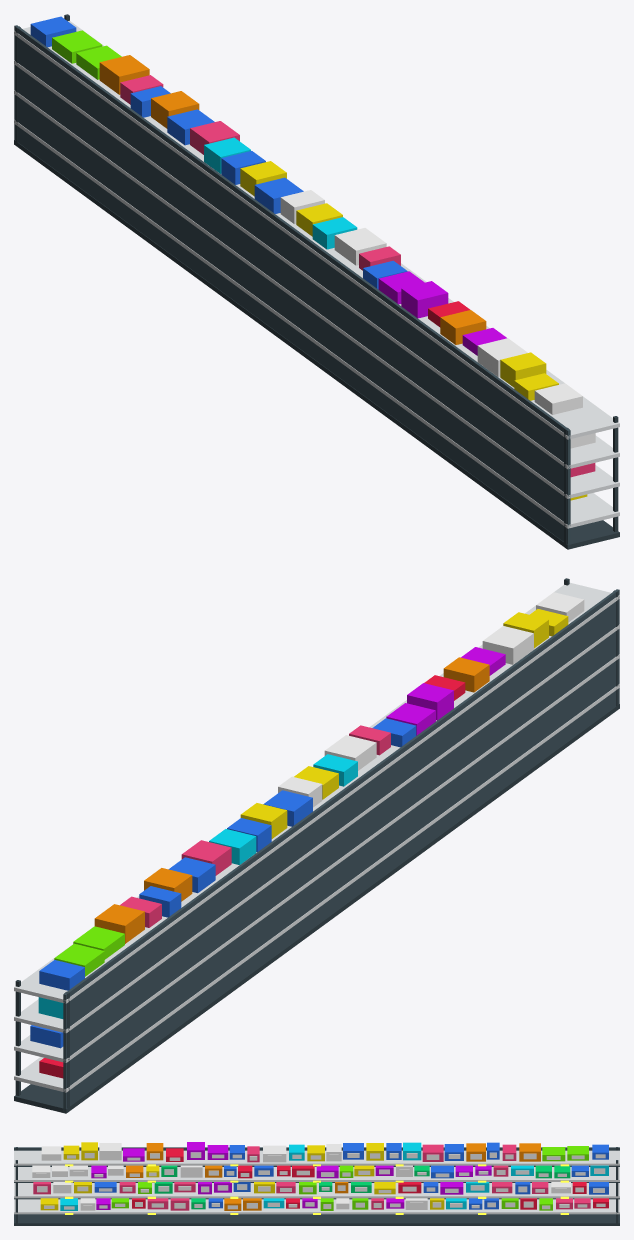
File: shelf.glb
3 renders of one model, top to bottom at view 1: azimuth 30°, elevation 25°; view 2: azimuth 150°, elevation 25°; view 3: azimuth 270°, elevation 25°, orthographic. The views are drawn at different scales.
Visible parts, largest first — view 1: BackPanel, Board.003, Base, Board, Board.001, Board.002, Product.109, Product.092, Product.105, Product.116, Product.111, Product.114 (+15 smaller); view 2: BackPanel, Board.003, Base, Board, Board.002, Board.001, Product.113, Product.092, Product.111, Product.109, Product.105, Product.089 (+17 smaller); view 3: Base, Board, Board.001, Board.003, Board.002, BackPanel, Product.105, Product.113, Product.092, Product.097, Product.095, Product.091 (+103 smaller).
Boxes of the visible parts, x1,y1,x2,y2 form: BackPanel: (14, 25, 570, 549); Board.003: (14, 20, 619, 439); Base: (14, 140, 619, 549); Board: (14, 119, 619, 528); Board.001: (14, 90, 619, 498); Board.002: (14, 60, 619, 469); Product.109: (401, 281, 448, 318); Product.092: (99, 55, 149, 94); Product.105: (334, 228, 386, 265); Product.116: (534, 383, 582, 414); Product.111: (440, 310, 486, 344); Product.114: (500, 352, 546, 387); BackPanel: (63, 589, 619, 1113); Board.003: (14, 582, 619, 1003); Base: (14, 704, 619, 1113); Board: (14, 683, 619, 1092); Board.002: (14, 624, 619, 1033); Board.001: (14, 654, 619, 1062); Product.113: (482, 626, 533, 664); Product.092: (94, 904, 144, 943); Product.111: (443, 657, 489, 692); Product.109: (407, 683, 453, 720); Product.105: (324, 735, 376, 770); Product.089: (39, 960, 84, 990); Base: (14, 1214, 619, 1225); Board: (14, 1199, 619, 1214); Board.001: (14, 1183, 619, 1198); Board.003: (14, 1150, 619, 1165); Board.002: (14, 1167, 619, 1181); BackPanel: (14, 1147, 619, 1199); Product.105: (263, 1145, 286, 1162); Product.113: (99, 1143, 121, 1160); Product.092: (519, 1143, 540, 1161); Product.097: (422, 1144, 443, 1161); Product.095: (466, 1143, 485, 1161); Product.091: (542, 1147, 565, 1161).
Bounding box in the file's own units: 1.22 × 2.9 × 22.
